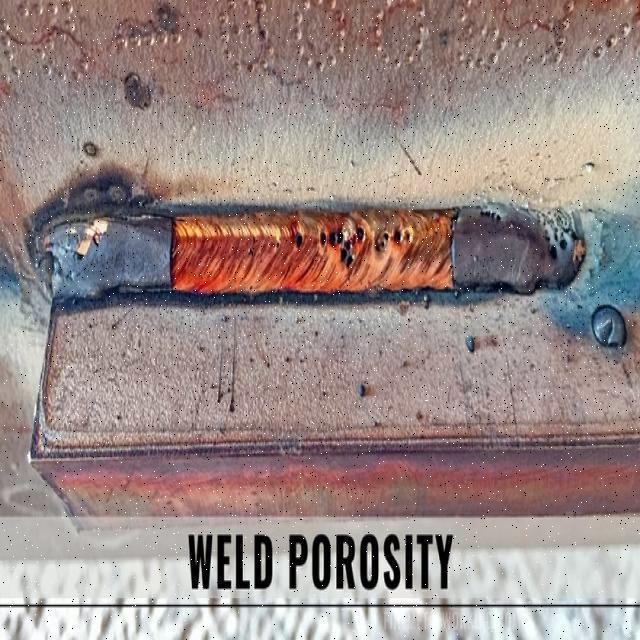Porosity: (524, 206, 573, 264), (316, 223, 367, 275), (375, 227, 414, 253), (478, 208, 503, 223), (293, 231, 304, 255), (248, 233, 258, 257), (275, 236, 283, 250)
